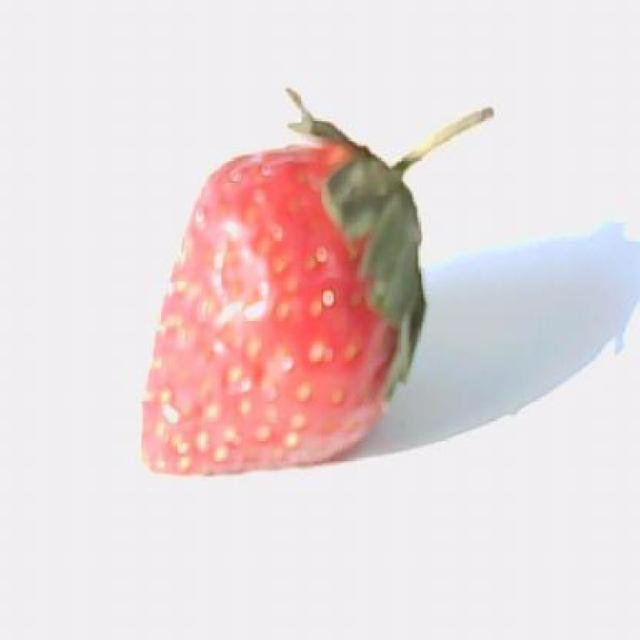strawberry: (142, 89, 491, 473)
